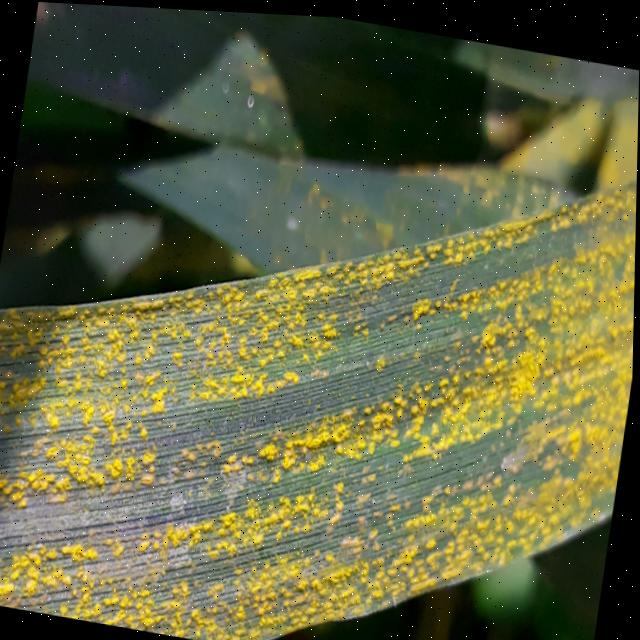yellow_rust: (0, 17, 640, 640)
